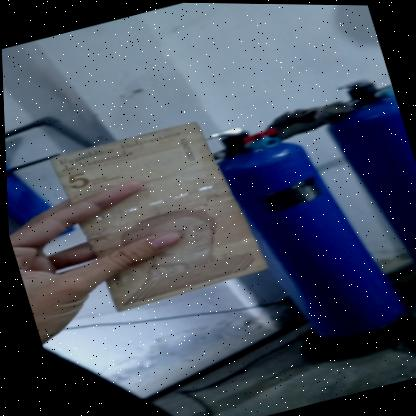five-front-vef: (45, 110, 270, 320)
